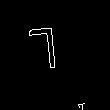L_S: (39, 28, 71, 82)
